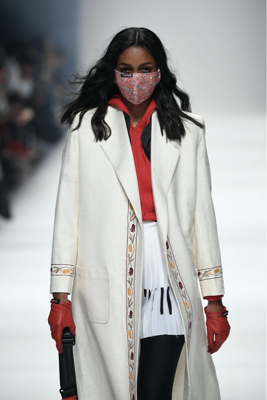with_mask: (113, 58, 162, 104)
